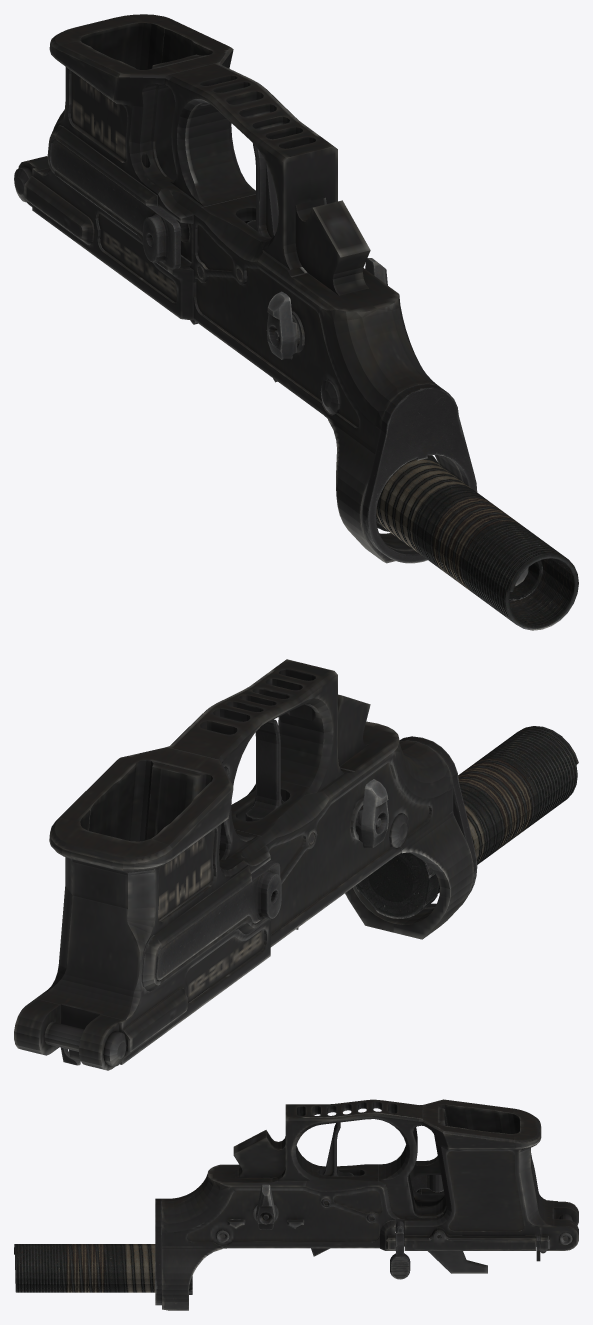
The picture shows the model from 3 angles, top to bottom: view 1: azimuth 30°, elevation 25°; view 2: azimuth 150°, elevation 25°; view 3: azimuth 270°, elevation 25°; orthographic projection. The views are drawn at different scales.
Visible parts, largest first — view 1: TW_60339954d62c9b14ed777c06_PZ_Import; view 2: TW_60339954d62c9b14ed777c06_PZ_Import; view 3: TW_60339954d62c9b14ed777c06_PZ_Import.
Boxes of the visible parts, x1,y1,x2,y2 form: TW_60339954d62c9b14ed777c06_PZ_Import: [14, 14, 578, 630]; TW_60339954d62c9b14ed777c06_PZ_Import: [14, 659, 578, 1070]; TW_60339954d62c9b14ed777c06_PZ_Import: [14, 1099, 578, 1310].
Bounding box in the file's own units: 0.0226 × 0.1541 × 0.059.
Materials: 1 (1 with a texture image).
